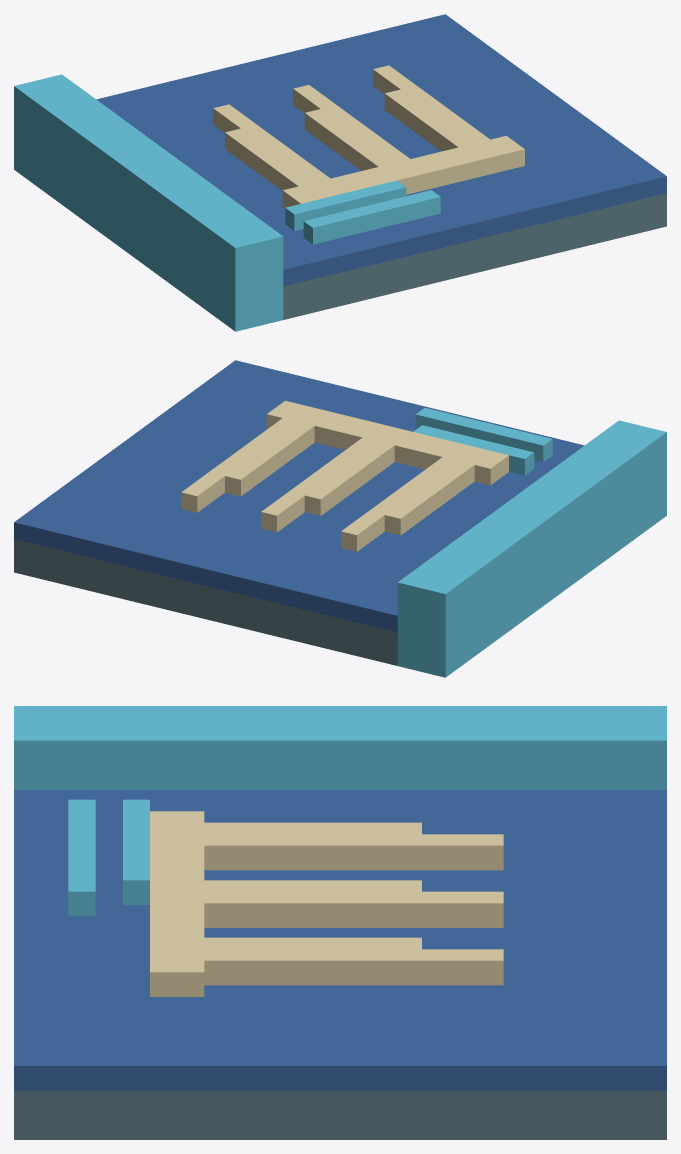
Rendered from voxel_32_70146.glb.
3 renders of one model, top to bottom at view 1: azimuth 30°, elevation 25°; view 2: azimuth 150°, elevation 25°; view 3: azimuth 270°, elevation 25°, orthographic. The views are drawn at different scales.
Parts seen in each view (by area): view 1: prop_70146; view 2: prop_70146; view 3: prop_70146.
Boxes of the visible parts, x1,y1,x2,y2 form: prop_70146: (14,14,666,331); prop_70146: (14,360,666,677); prop_70146: (14,706,666,1139).
Bounding box in the file's own units: 0.7003 × 0.1297 × 0.6225.
